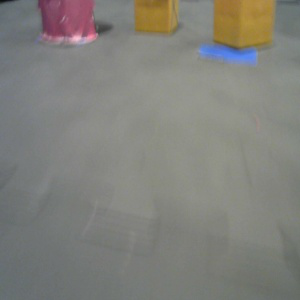middle: (37, 1, 99, 44)
